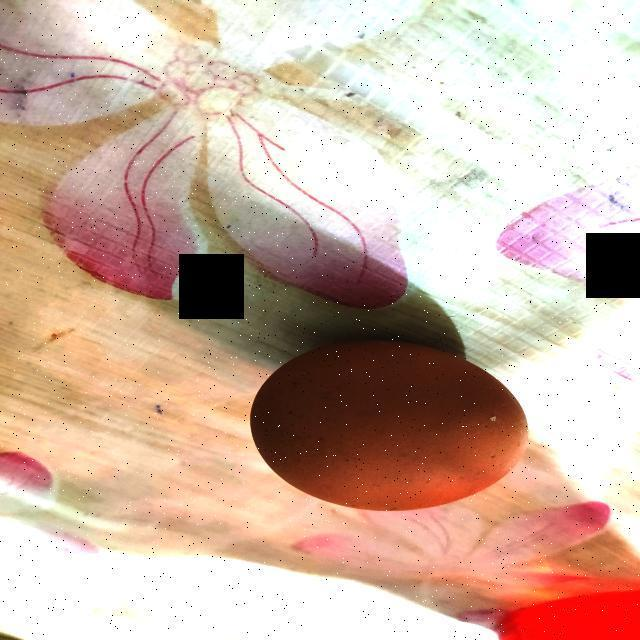egg: (246, 329, 534, 516)
